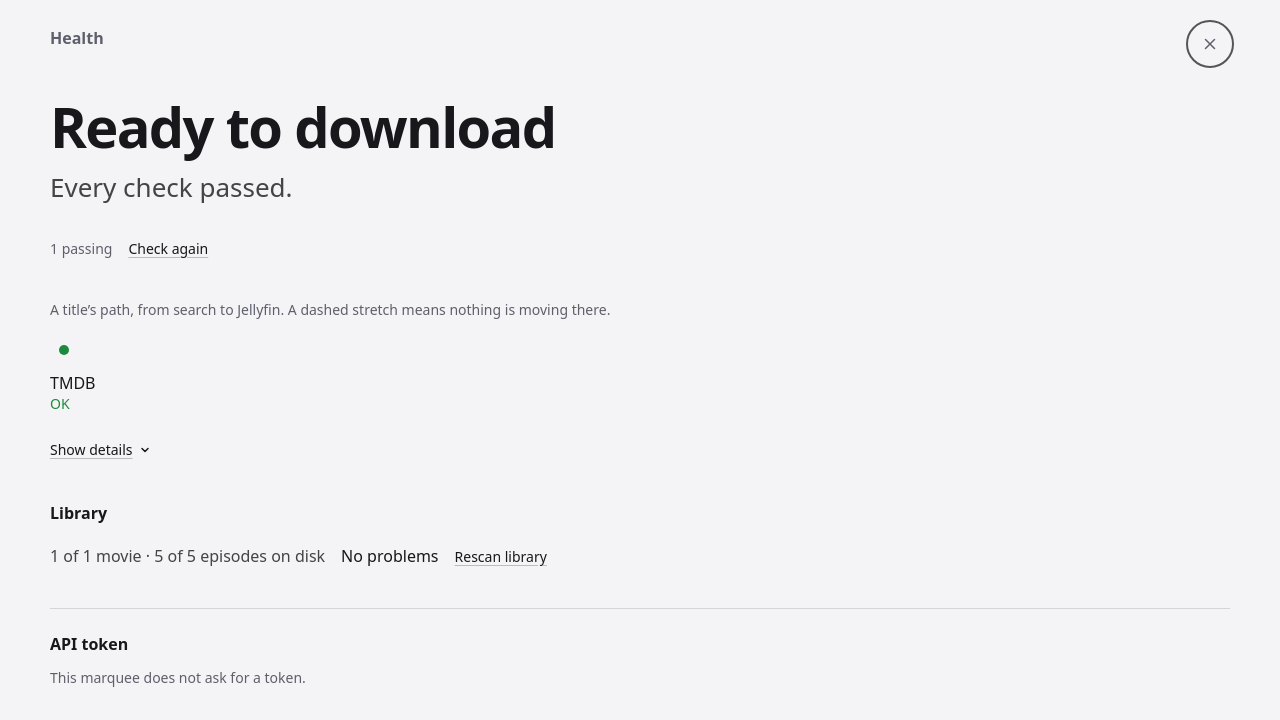
it: Rescan library on Health runs the scan, says what it found in one toast and checks health again
What coordinates should you click on to do the following:
click the button "Rescan library"
I would click on:
 (501, 556)
Its box is [454, 536, 547, 576].
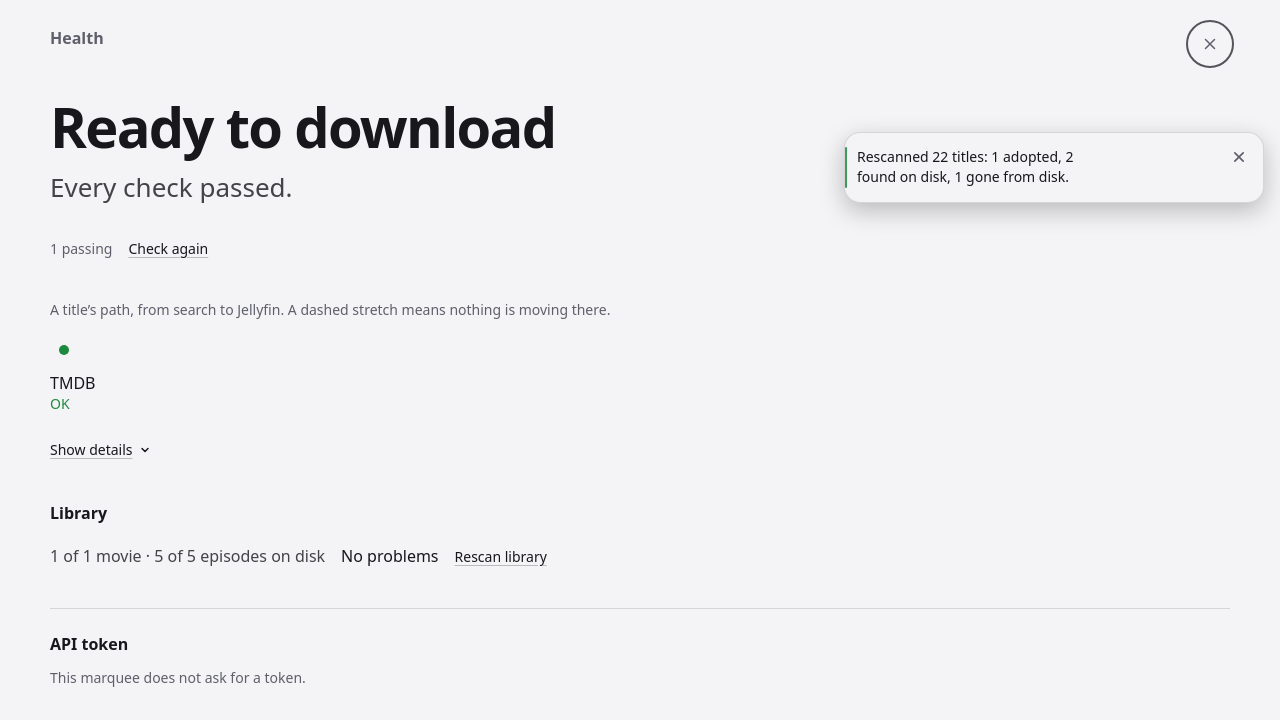
Expected: the text "Rescanned 22 titles: 1 adopted, 2 found on disk, 1 gone from disk." is shown, [857, 147, 1074, 186]
